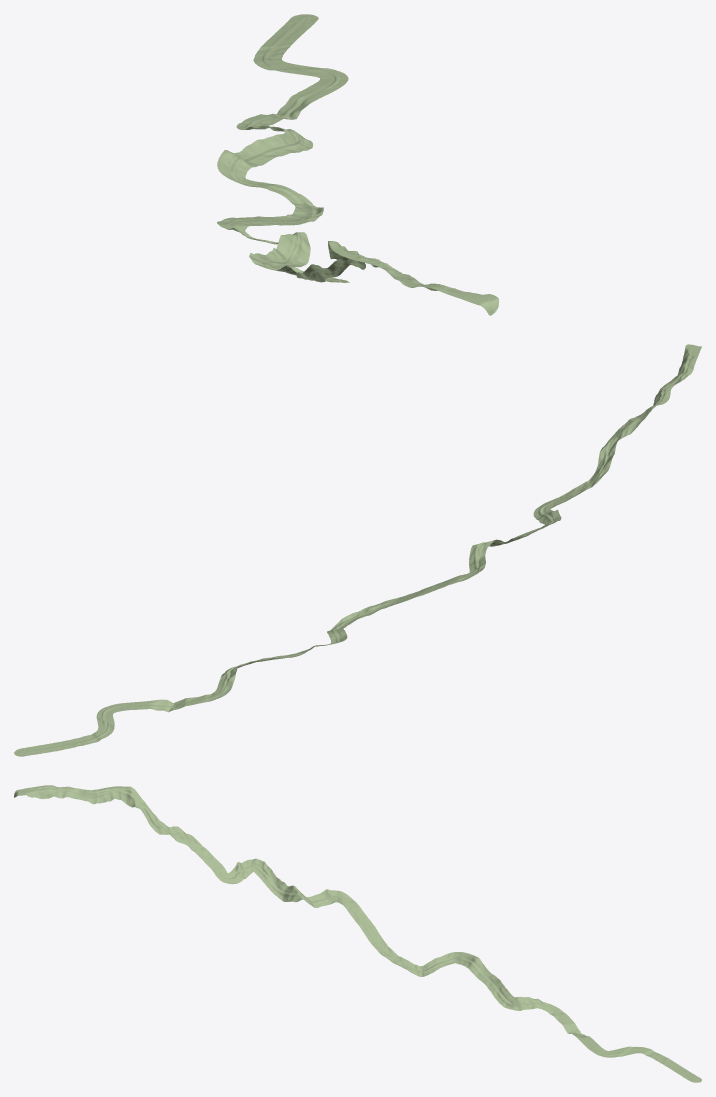
The model's file is corridor-v4-high.glb.
3 views of the same model, one above another, from view 1: azimuth 30°, elevation 25°; view 2: azimuth 150°, elevation 25°; view 3: azimuth 270°, elevation 25° (orthographic). The views are drawn at different scales.
Visible parts, largest first — view 1: Trail / 10 6, Trail / 8 9, Trail / 11 4, Trail / 12 3, Trail / 8 11, Trail / 10 7, Trail / 8 13, Trail / 7 12, Trail / 11 5, Trail / 9 8, Trail / 9 6, Trail / 12 4 (+1 smaller); view 2: Trail / 8 11, Trail / 8 10, Trail / 12 3; view 3: Trail / 8 10, Trail / 8 9, Trail / 10 6, Trail / 8 11, Trail / 7 12, Trail / 9 8.
Boxes of the visible parts, <box> form: Trail / 10 6: <box>231,129,312,173</box>; Trail / 8 9: <box>235,228,309,267</box>; Trail / 11 4: <box>256,59,338,114</box>; Trail / 12 3: <box>260,14,318,59</box>; Trail / 8 11: <box>296,251,365,282</box>; Trail / 10 7: <box>258,182,323,216</box>; Trail / 8 13: <box>421,283,498,315</box>; Trail / 7 12: <box>328,241,409,279</box>; Trail / 11 5: <box>249,97,321,138</box>; Trail / 9 8: <box>237,215,319,225</box>; Trail / 9 6: <box>217,150,248,180</box>; Trail / 12 4: <box>293,64,348,88</box>; Trail / 8 11: <box>577,417,636,487</box>; Trail / 8 10: <box>528,484,594,532</box>; Trail / 12 3: <box>14,734,91,756</box>; Trail / 8 10: <box>200,844,263,884</box>; Trail / 8 9: <box>263,861,327,907</box>; Trail / 10 6: <box>462,959,517,1007</box>; Trail / 8 11: <box>137,804,200,857</box>; Trail / 7 12: <box>73,786,136,806</box>; Trail / 9 8: <box>346,908,390,959</box>.
Size of the model in its own units: 649 by 373 by 1388.
